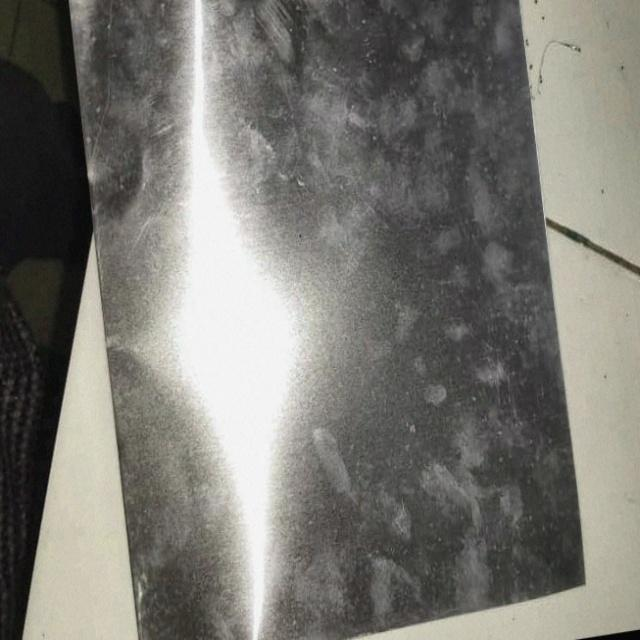TLC Plate: (56, 0, 598, 640)
